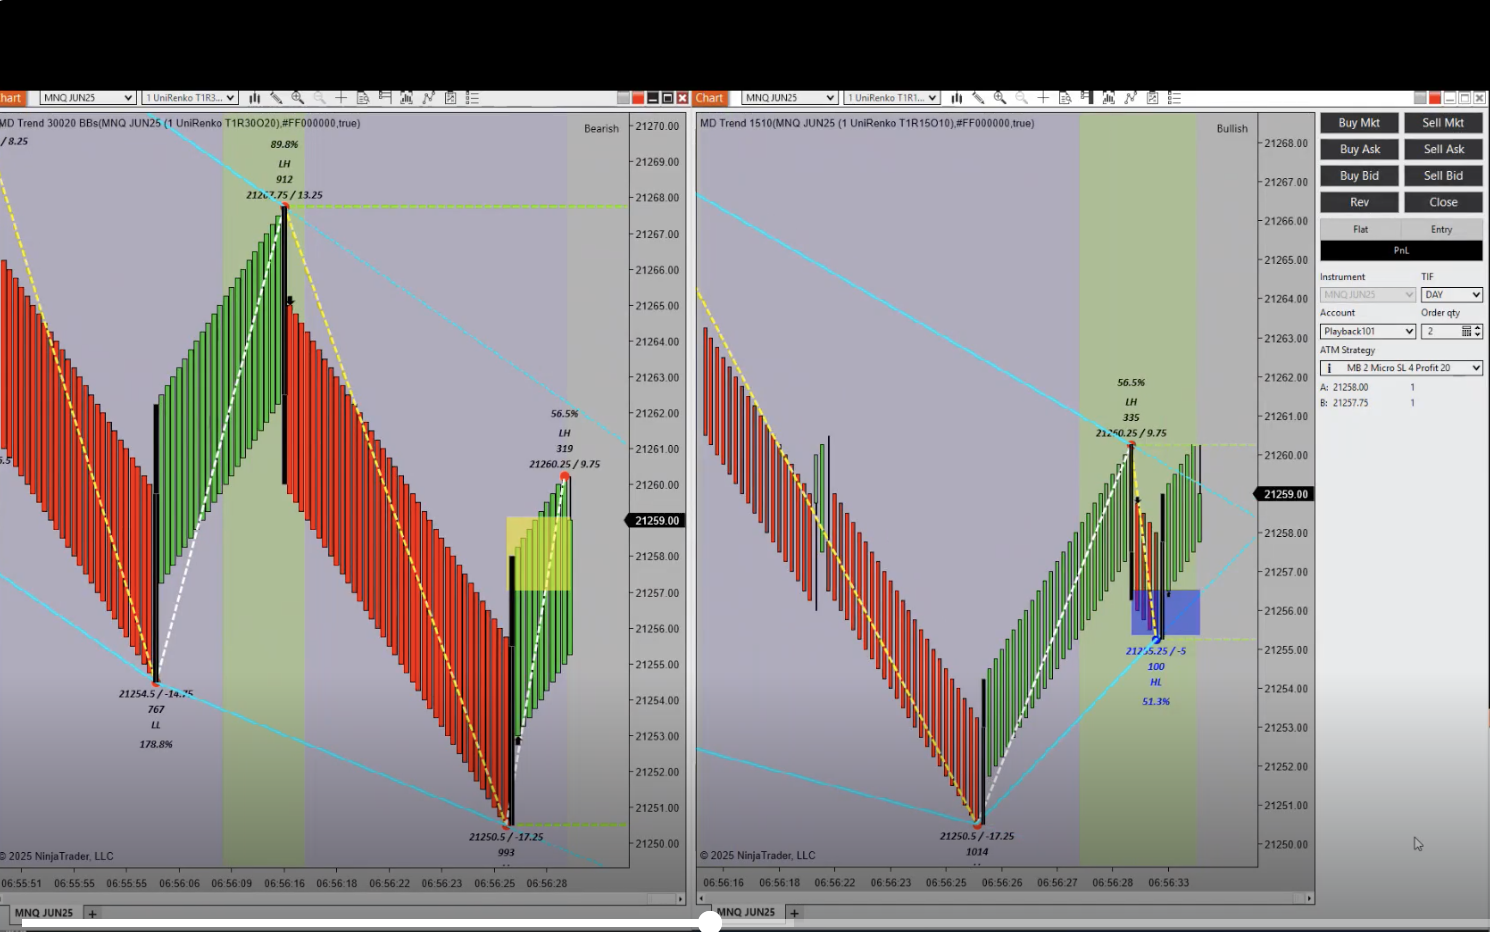candle: (152, 405, 159, 678), (510, 557, 516, 822), (282, 205, 288, 489), (980, 678, 988, 825), (1128, 445, 1135, 605), (1159, 495, 1164, 642)
